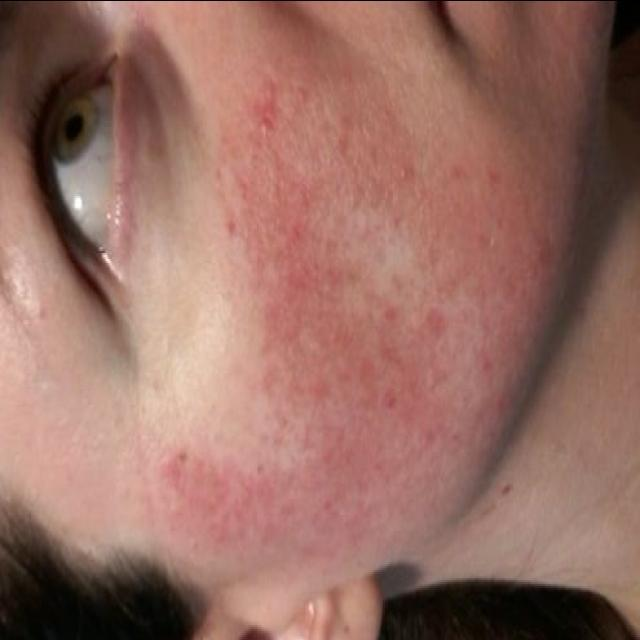Rosacea: (222, 100, 398, 460)
